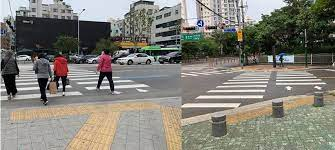guide_blocks: (7, 103, 158, 122), (64, 117, 118, 150), (161, 105, 179, 150), (227, 108, 270, 122), (285, 98, 315, 107)
